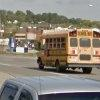Bus: (37, 24, 100, 77)
